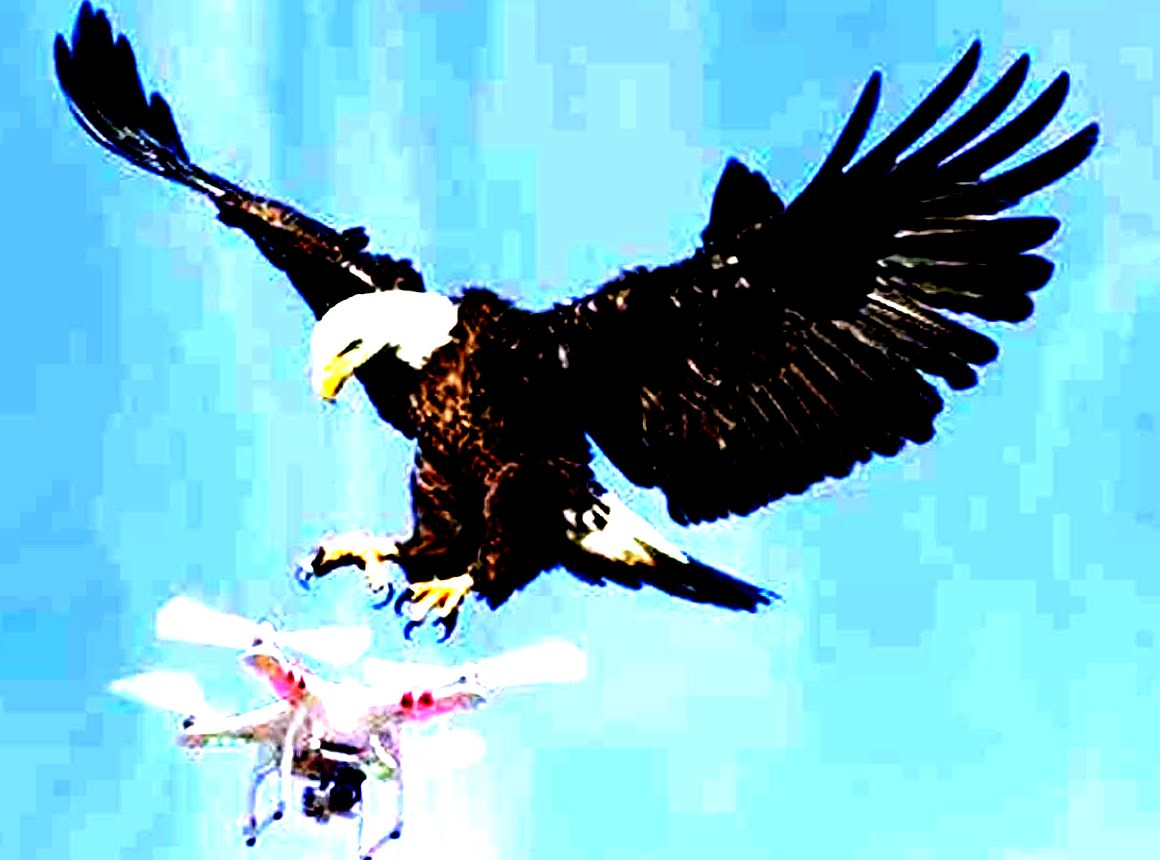Bird: (36, 0, 1108, 639)
Drone: (100, 591, 581, 860)
